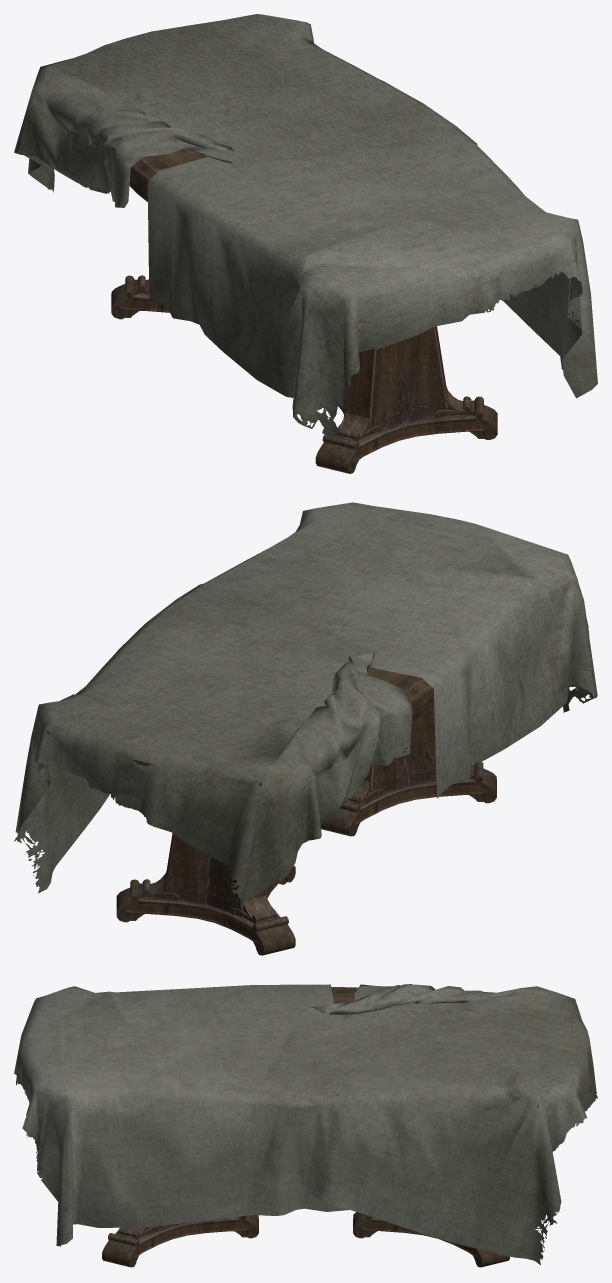
The model's file is Table.fbx.
3 renders of one model, top to bottom at view 1: azimuth 30°, elevation 25°; view 2: azimuth 150°, elevation 25°; view 3: azimuth 270°, elevation 25°, orthographic. The views are drawn at different scales.
Visible parts, largest first — view 1: SM_DiningTableCover_LOD0, SM_DiningTable_LOD0; view 2: SM_DiningTableCover_LOD0, SM_DiningTable_LOD0; view 3: SM_DiningTableCover_LOD0.
Part boxes in pixels (bbox=[...]): SM_DiningTableCover_LOD0: bbox=[14, 14, 597, 473]; SM_DiningTable_LOD0: bbox=[132, 139, 468, 171]; SM_DiningTableCover_LOD0: bbox=[14, 502, 597, 955]; SM_DiningTable_LOD0: bbox=[46, 517, 421, 785]; SM_DiningTableCover_LOD0: bbox=[14, 984, 597, 1267].
Size of the model in its own units: 133 by 96.95 by 256.
